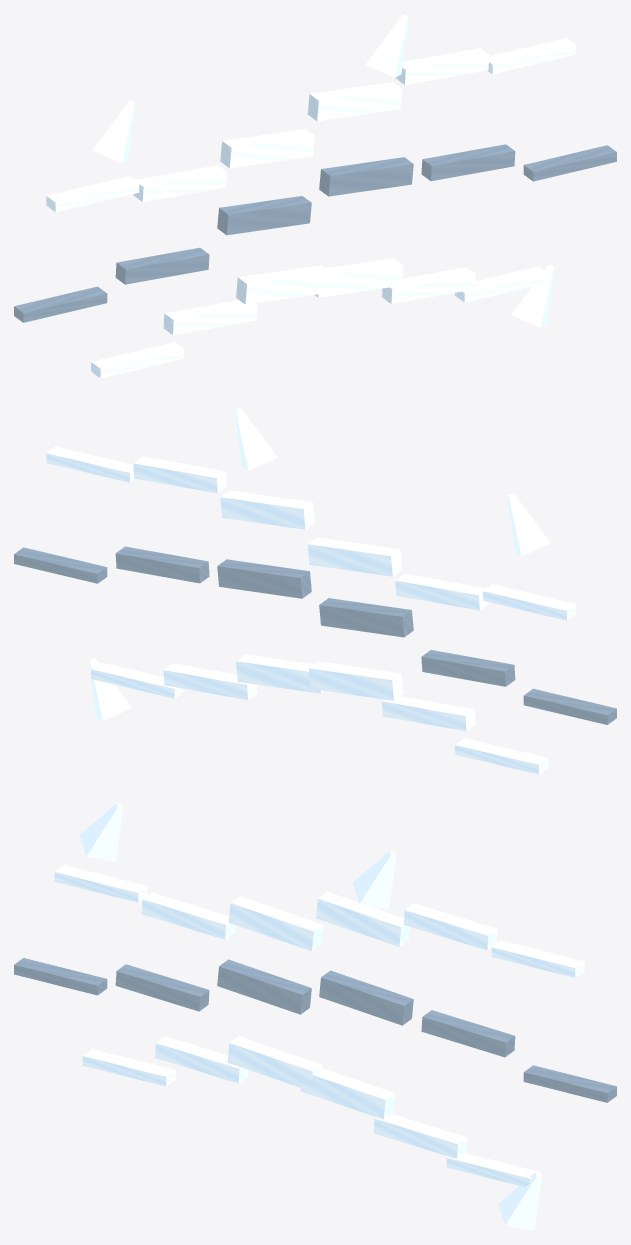
The model's file is sfx-ssaa.glb.
The picture shows the model from 3 angles, top to bottom: view 1: azimuth 30°, elevation 25°; view 2: azimuth 150°, elevation 25°; view 3: azimuth 330°, elevation 25°; orthographic projection.
Visible parts, largest first — view 1: TS_SfxStamp_ssaa; view 2: TS_SfxStamp_ssaa; view 3: TS_SfxStamp_ssaa.
Boxes of the visible parts, x1,y1,x2,y2 form: TS_SfxStamp_ssaa: (14,14,616,378); TS_SfxStamp_ssaa: (14,407,616,774); TS_SfxStamp_ssaa: (14,803,616,1230).
Bounding box in the file's own units: 0.326 × 0.1809 × 0.0255.
1 material, 1 textured.
